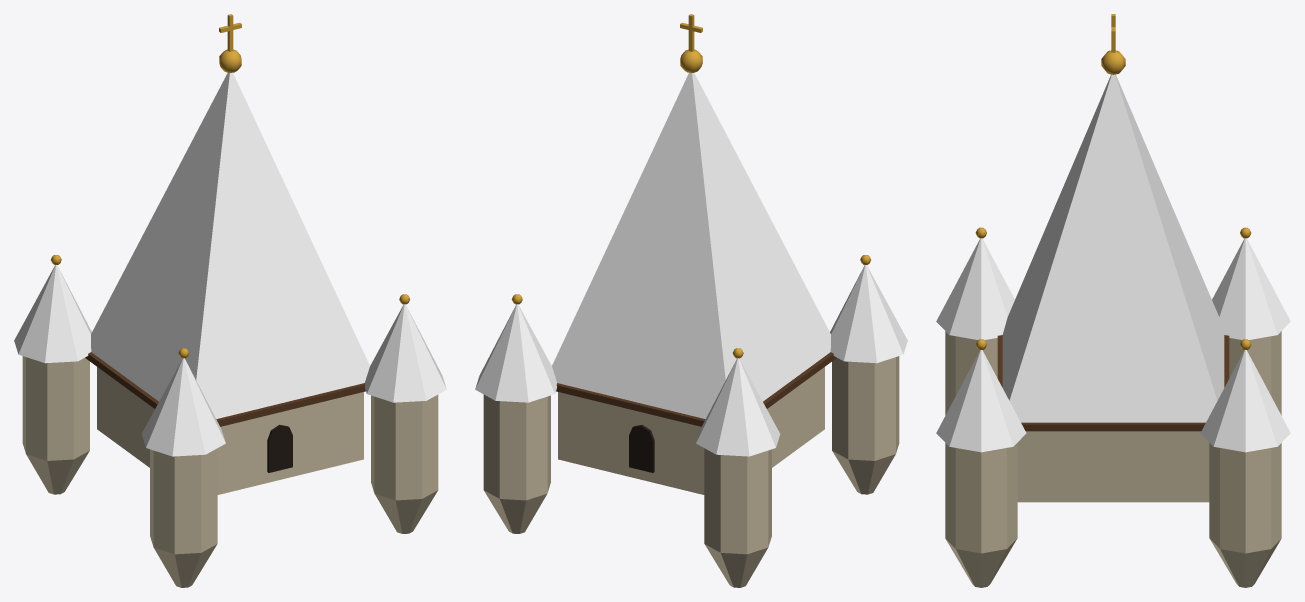
Rendered from castle_keep_spire.glb.
The picture shows the model from 3 angles, left to right: view 1: azimuth 30°, elevation 25°; view 2: azimuth 150°, elevation 25°; view 3: azimuth 270°, elevation 25°; orthographic projection. The views are drawn at different scales.
Parts seen in each view (by area): view 1: castle_keep_spire; view 2: castle_keep_spire; view 3: castle_keep_spire.
Boxes of the visible parts, x1=… form: castle_keep_spire: x1=14, y1=14, x2=446, y2=587; castle_keep_spire: x1=475, y1=14, x2=907, y2=587; castle_keep_spire: x1=936, y1=14, x2=1290, y2=587.
Size of the model in its own units: 9.8 by 15.65 by 9.8.
